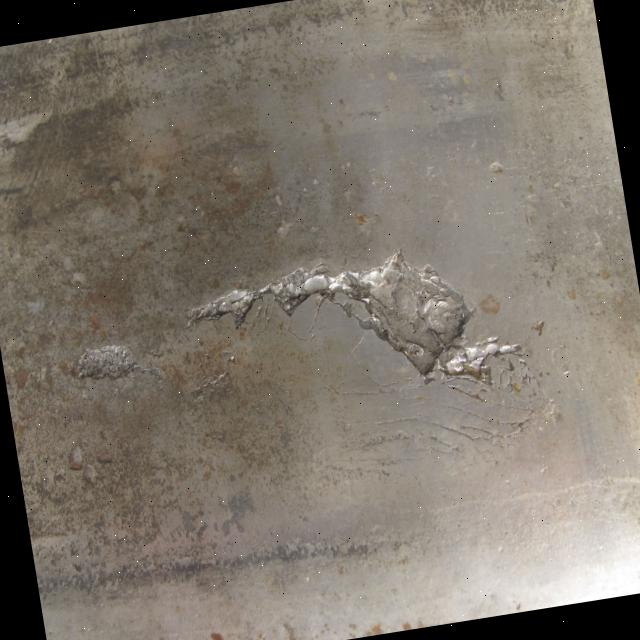Peeling: (265, 251, 485, 396), (446, 343, 536, 406), (67, 336, 160, 395), (182, 285, 267, 341), (67, 445, 95, 477), (489, 158, 507, 181), (531, 319, 549, 339)
